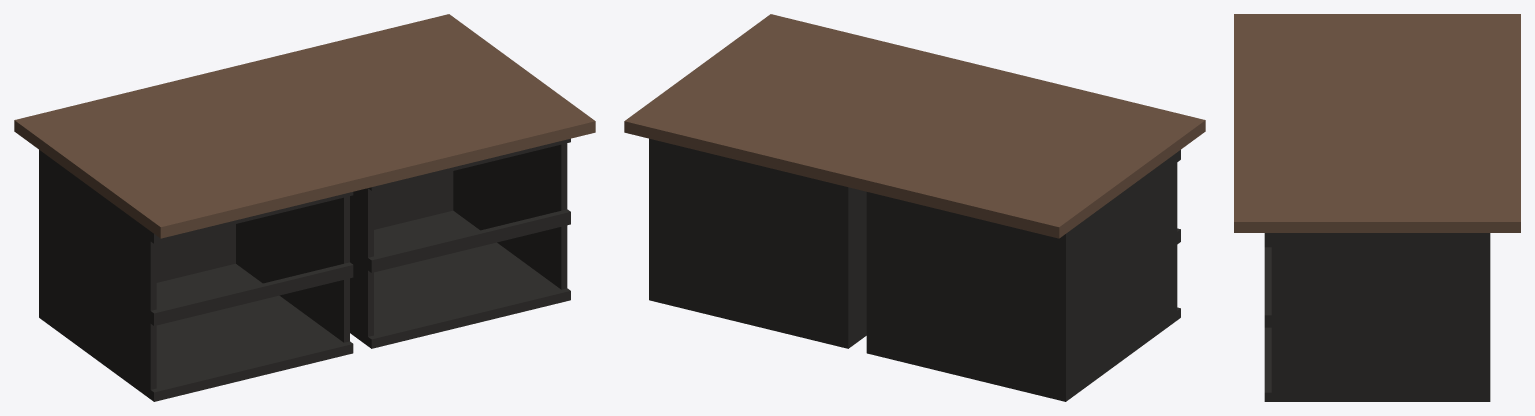
Rendered from bedroom-crate-riser.glb.
3 views of the same model, side by side, from view 1: azimuth 30°, elevation 25°; view 2: azimuth 150°, elevation 25°; view 3: azimuth 270°, elevation 25° (orthographic). The views are drawn at different scales.
Visible parts, largest first — view 1: plastic-dark, wood; view 2: plastic-dark, wood; view 3: wood, plastic-dark.
Boxes of the visible parts, x1,y1,x2,y2 form: plastic-dark: [39, 138, 570, 401]; wood: [14, 14, 595, 238]; plastic-dark: [649, 138, 1180, 401]; wood: [624, 14, 1205, 238]; wood: [1234, 14, 1520, 232]; plastic-dark: [1264, 233, 1490, 401].
Size of the model in its own units: 0.72 by 0.298 by 0.42.
